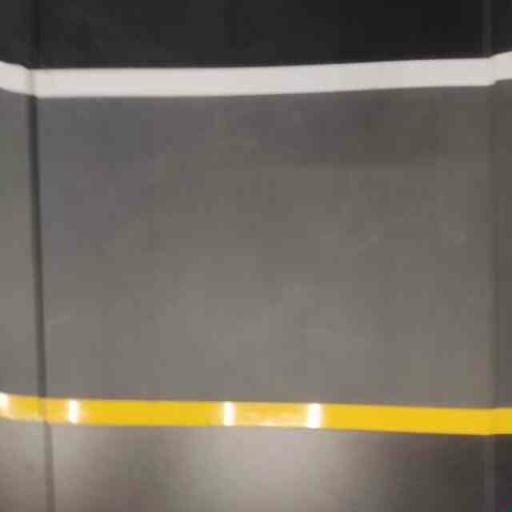left: (34, 60, 508, 444)
